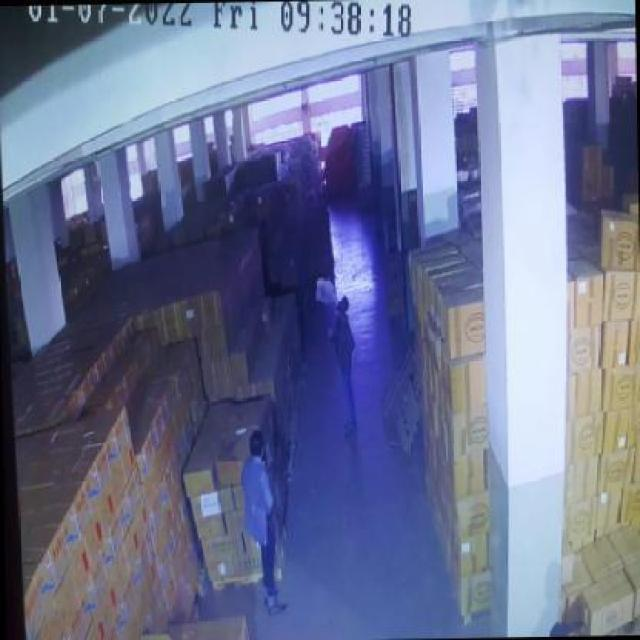fire: (313, 274, 336, 308)
